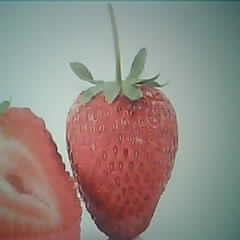straw-ripe: (67, 76, 178, 240)
